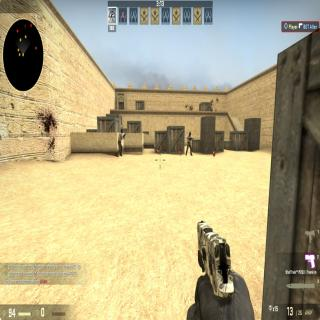T-Body: (116, 129, 124, 158), (186, 131, 192, 156)
T-Head: (188, 131, 192, 136), (120, 128, 123, 134)
